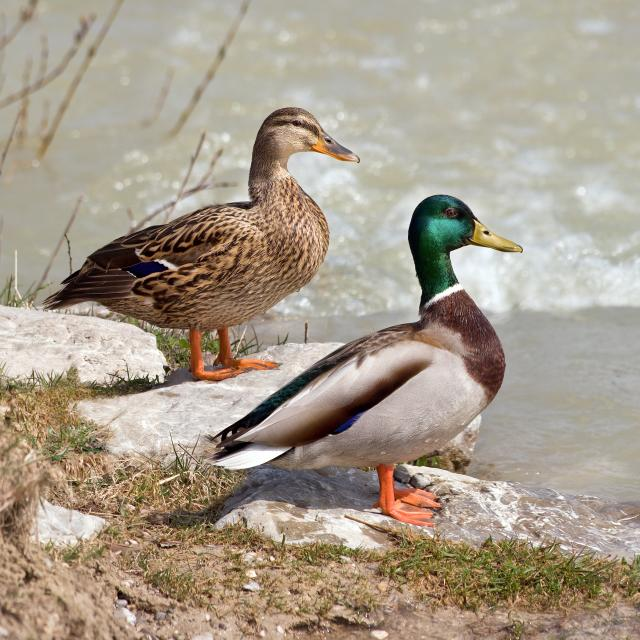bird: (213, 195, 524, 533), (68, 87, 364, 376)
